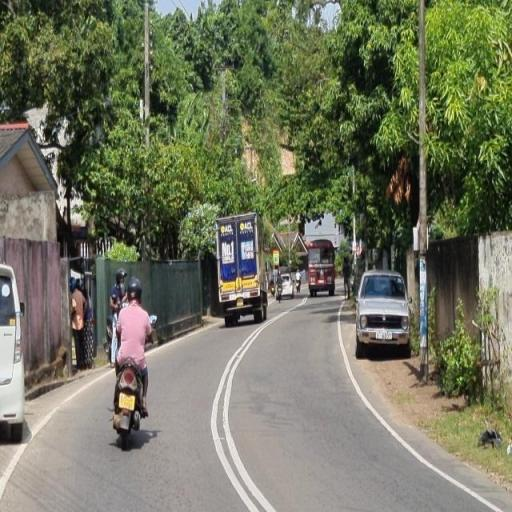double_white_line: (334, 304, 504, 512), (210, 290, 280, 510)
